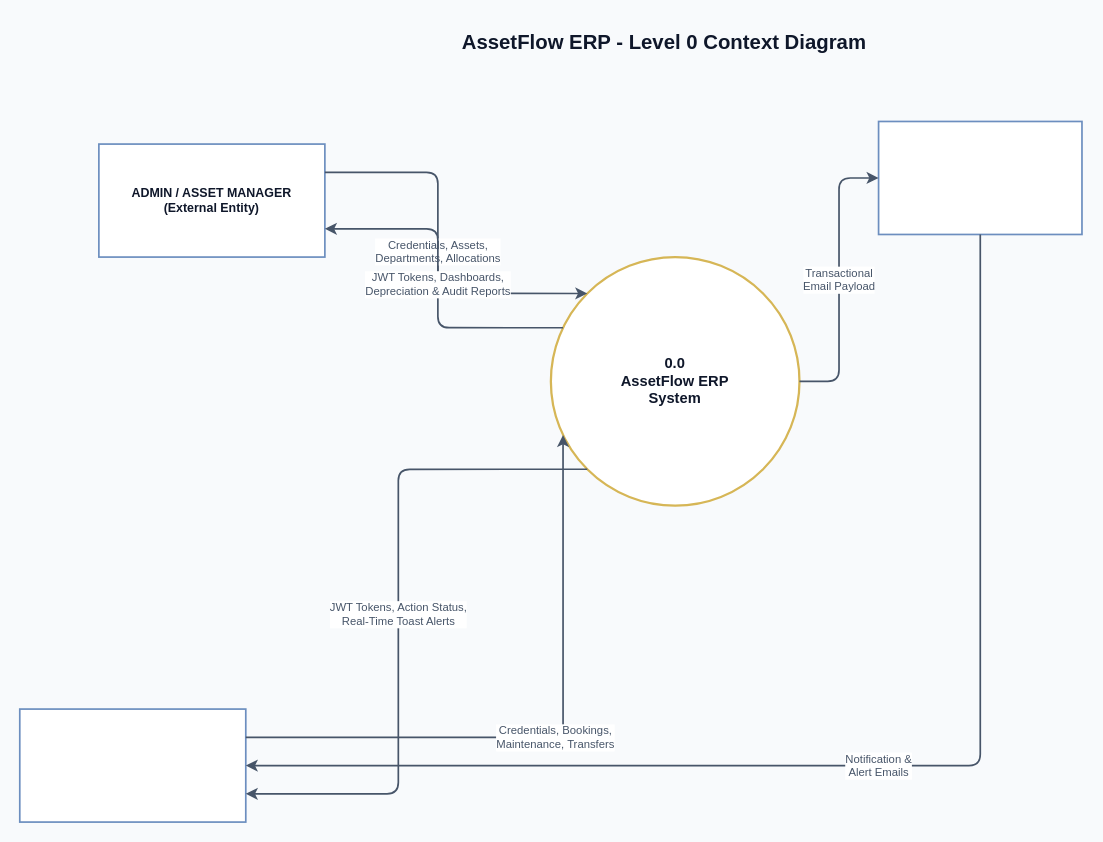
Some shapes in this 1103 by 842 pixel diagram are drawn without their labels. Each missing label, with the centre of its shape:
"EMPLOYEE / DEPT HEAD (External Entity)" goes at point 132,765.
"SMTP MAIL SERVER (External Entity)" goes at point 979,177.
